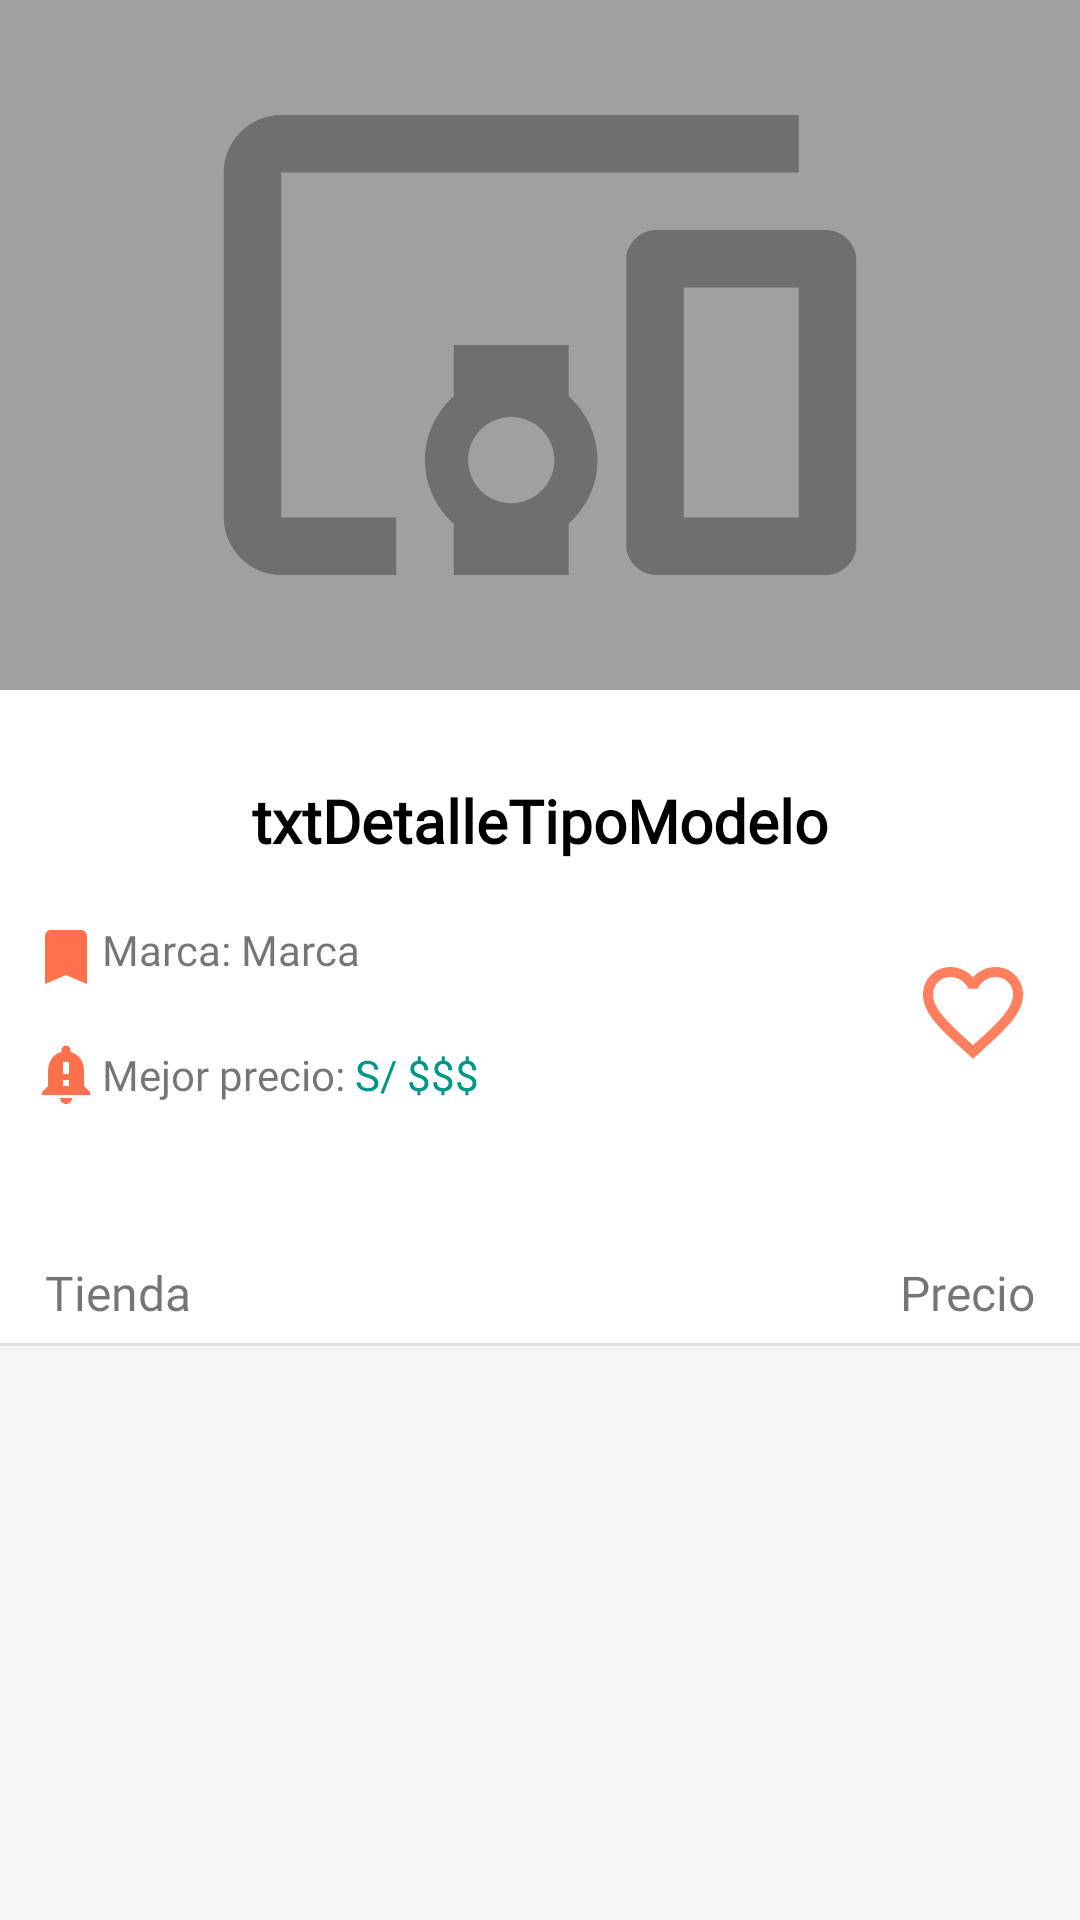

Where to tap for icons on this 1080×1920 app screen, as point (x, y):
favorite border: point (973, 1013)
importante: point (66, 1074)
